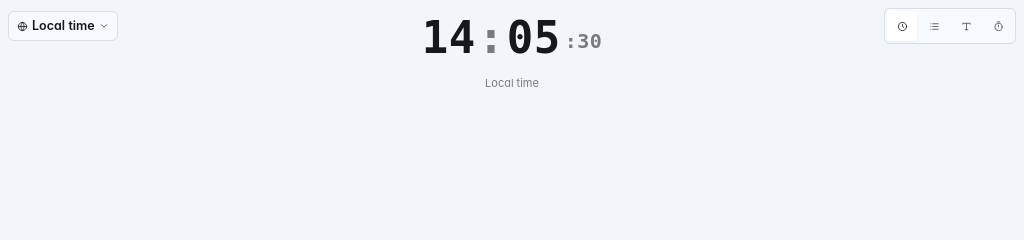
Scenario: AC-CLOCK: ClockWidget › AC-CLOCK-8: switching to analog mounts <svg class='clock-analog'>
Click the button named "Analog" at (998, 26), box [983,11,1013,41]
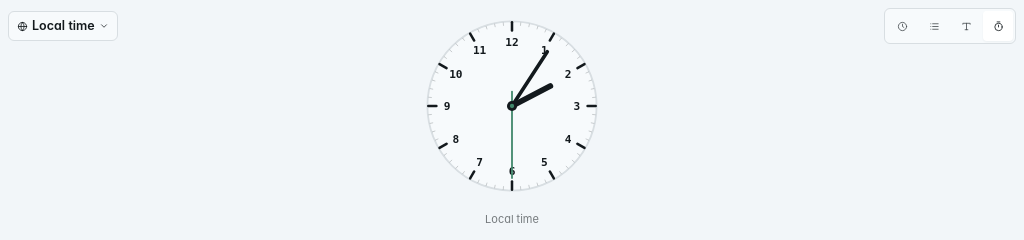
Expected: the picture with class "clock-analog" is shown, [422,16,602,196]
